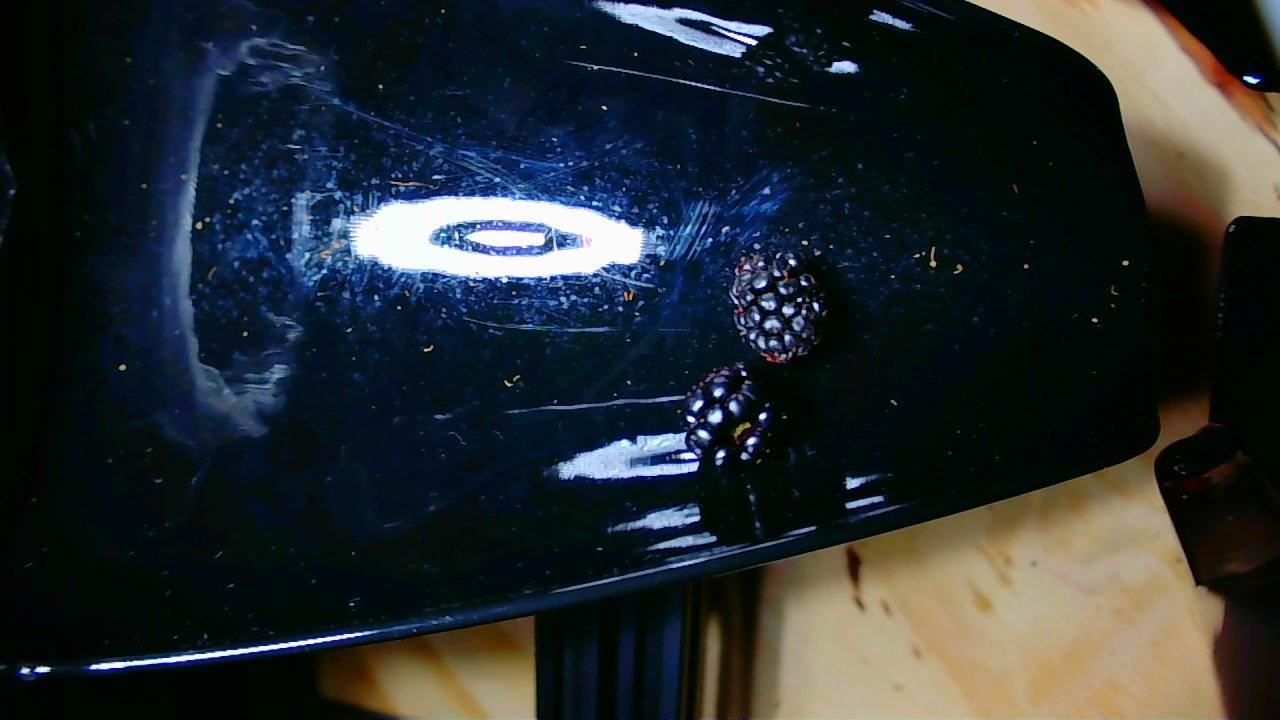berry: (730, 251, 828, 362), (683, 364, 773, 466)
